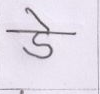e_matra: (26, 7, 52, 30)
